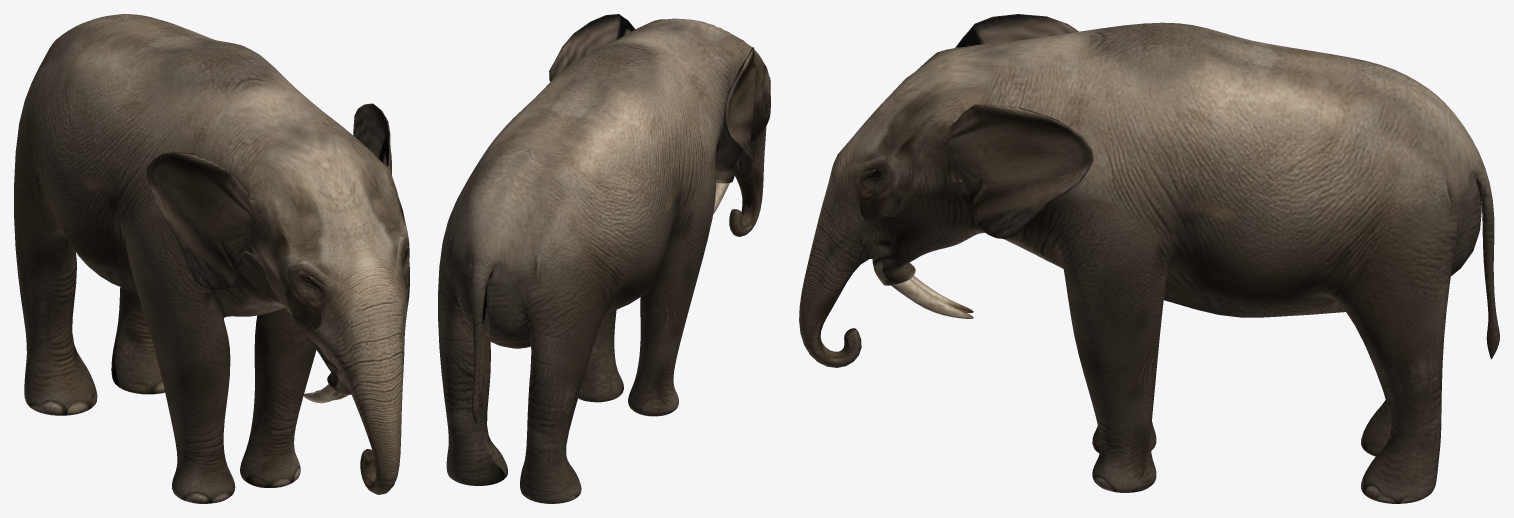
The model's file is 02__Prodeinotherium.fbx.
The picture shows the model from 3 angles, left to right: view 1: azimuth 30°, elevation 25°; view 2: azimuth 150°, elevation 25°; view 3: azimuth 270°, elevation 25°; orthographic projection. The views are drawn at different scales.
Visible parts, largest first — view 1: Cube, Cube.003; view 2: Cube; view 3: Cube, Cube.003.
Part boxes in pixels (left/top/right/bottom): Cube: left=14, top=14, right=409, bottom=503; Cube.003: left=303, top=384, right=348, bottom=403; Cube: left=438, top=14, right=770, bottom=503; Cube: left=799, top=14, right=1499, bottom=503; Cube.003: left=891, top=276, right=973, bottom=318.
Size of the model in its own units: 450 by 847 by 1242.
